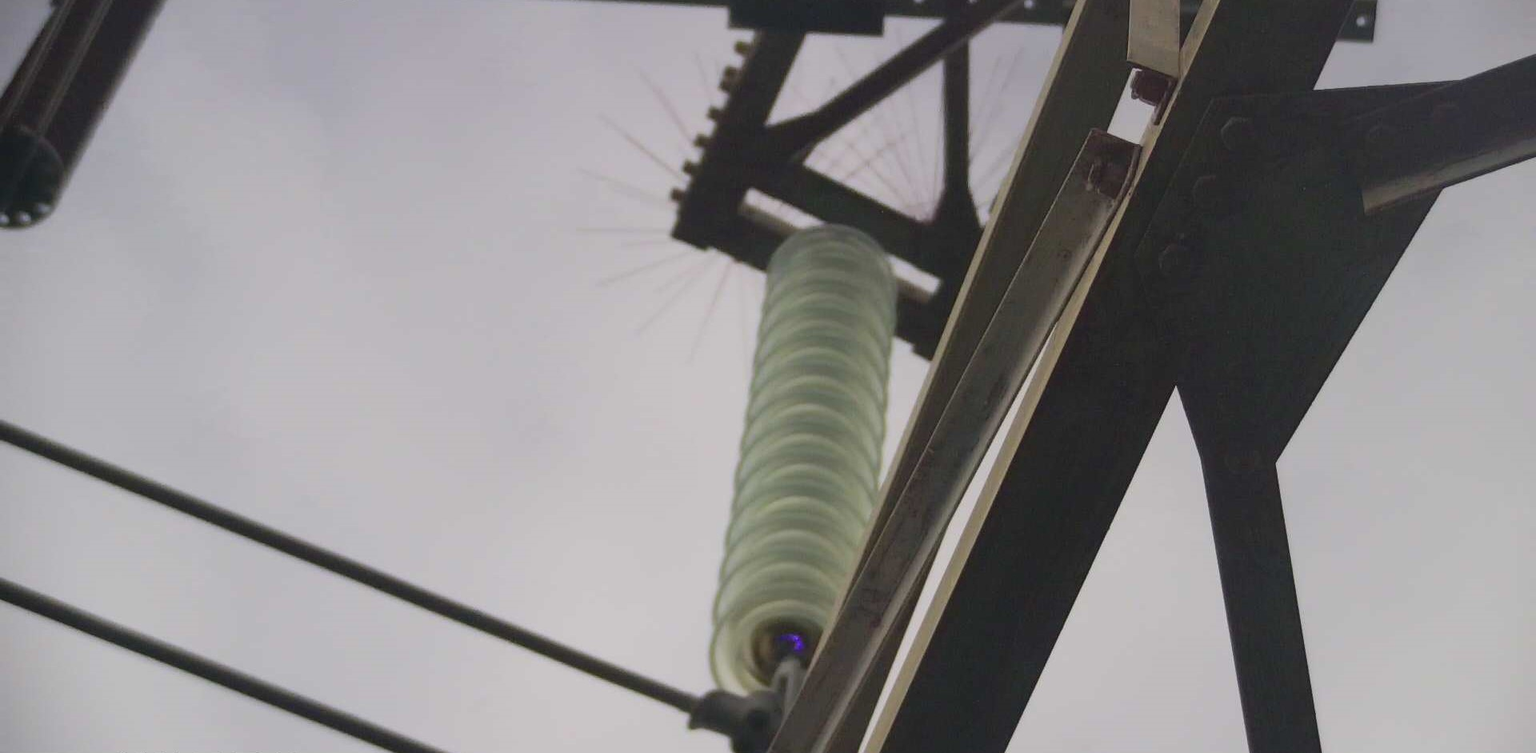绝缘子污闪: (774, 631, 804, 654)
